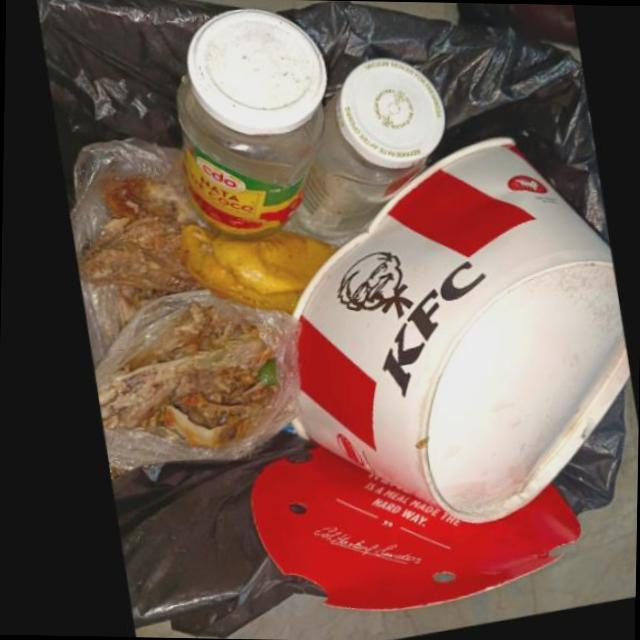carton: (291, 140, 628, 529), (247, 449, 579, 615)
chai_thuy_tinh: (174, 9, 328, 238), (291, 59, 445, 248)
thuc_an_thua: (96, 304, 281, 450), (76, 177, 197, 312)
tui_ni_long: (92, 291, 300, 481), (68, 138, 208, 371)
vo_trai_cay: (178, 225, 337, 317)
